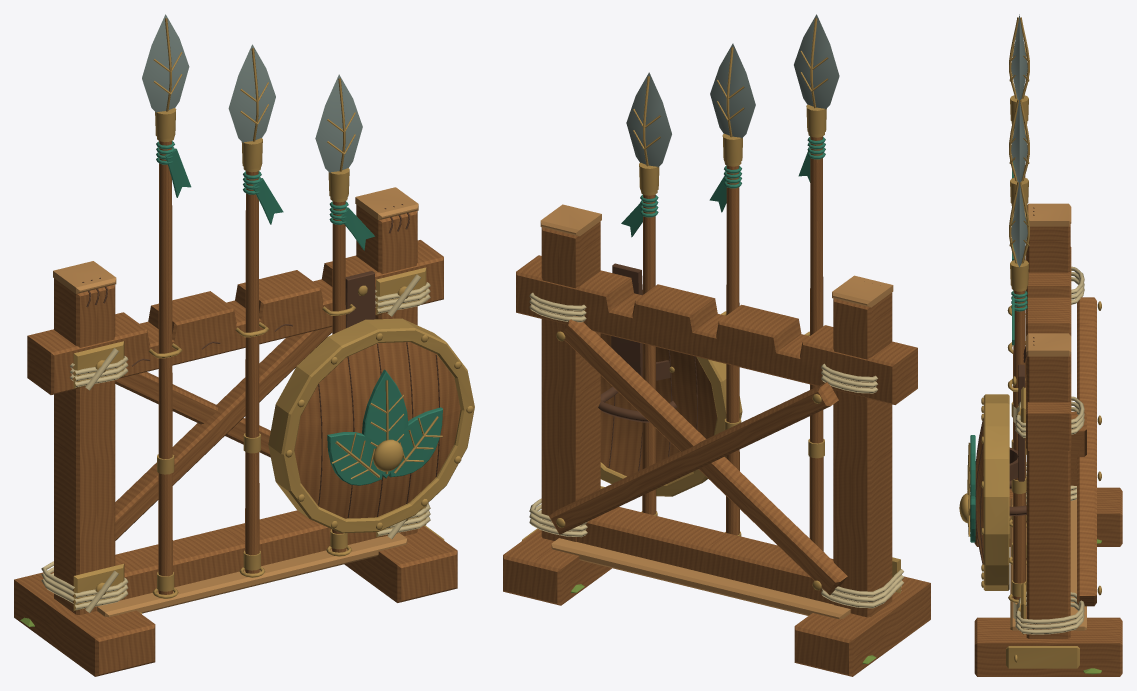
Rendered from leaf-weapon-rack.glb.
The picture shows the model from 3 angles, left to right: view 1: azimuth 30°, elevation 25°; view 2: azimuth 150°, elevation 25°; view 3: azimuth 270°, elevation 25°; orthographic projection. The views are drawn at different scales.
Parts seen in each view (by area): view 1: weapon-rack-old-wood (×5), weapon-rack-aged-bronze (×5), weapon-rack-jade-leaves-and-cloth (×4), weapon-rack-steel (×3), weapon-rack-worn-wood-ends, weapon-rack-rope, weapon-rack-leather-and-seams (×2); view 2: weapon-rack-old-wood (×5), weapon-rack-worn-wood-ends, weapon-rack-steel (×3), weapon-rack-aged-bronze (×4), weapon-rack-rope, weapon-rack-leather-and-seams (×2), weapon-rack-jade-leaves-and-cloth (×2); view 3: weapon-rack-old-wood (×3), weapon-rack-aged-bronze (×5), weapon-rack-worn-wood-ends, weapon-rack-rope, weapon-rack-steel (×3), weapon-rack-leather-and-seams (×2), weapon-rack-jade-leaves-and-cloth (×2).
Part boxes in pixels (x1,y1,x2,y2): weapon-rack-old-wood (×5): (14, 141, 460, 676); weapon-rack-aged-bronze (×5): (73, 18, 474, 613); weapon-rack-jade-leaves-and-cloth (×4): (156, 141, 442, 485); weapon-rack-steel (×3): (142, 14, 362, 172); weapon-rack-worn-wood-ends: (53, 187, 418, 617); weapon-rack-rope: (41, 274, 430, 612); weapon-rack-leather-and-seams (×2): (82, 204, 439, 518); weapon-rack-old-wood (×5): (503, 136, 930, 676); weapon-rack-worn-wood-ends: (540, 204, 893, 619); weapon-rack-steel (×3): (626, 14, 839, 167); weapon-rack-aged-bronze (×4): (600, 18, 828, 552); weapon-rack-rope: (529, 292, 903, 608); weapon-rack-leather-and-seams (×2): (598, 263, 697, 471); weapon-rack-jade-leaves-and-cloth (×2): (621, 165, 741, 237); weapon-rack-old-wood (×3): (974, 225, 1122, 676); weapon-rack-aged-bronze (×5): (959, 17, 1101, 668); weapon-rack-worn-wood-ends: (1010, 203, 1086, 630); weapon-rack-rope: (1013, 266, 1084, 634); weapon-rack-steel (×3): (1011, 14, 1027, 267); weapon-rack-leather-and-seams (×2): (975, 207, 1034, 564); weapon-rack-jade-leaves-and-cloth (×2): (970, 291, 1027, 542).
Size of the model in its own units: 2.86 by 4.25 by 1.15.
8 materials, 1 textured.
